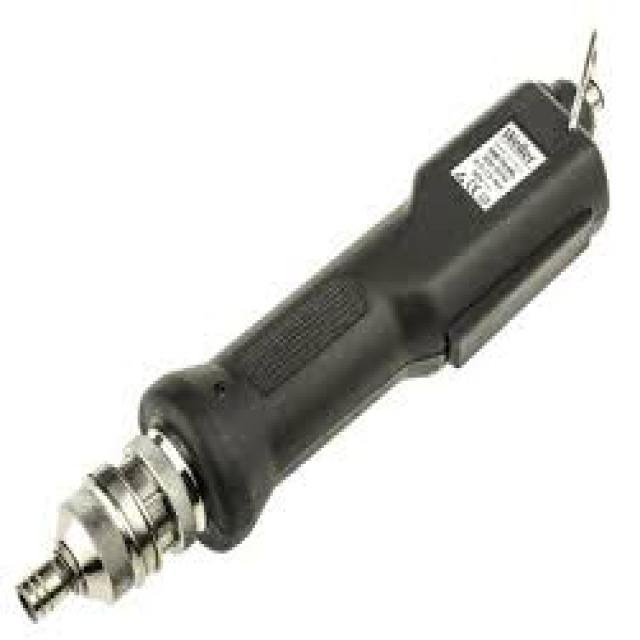drill: (0, 19, 617, 640)
